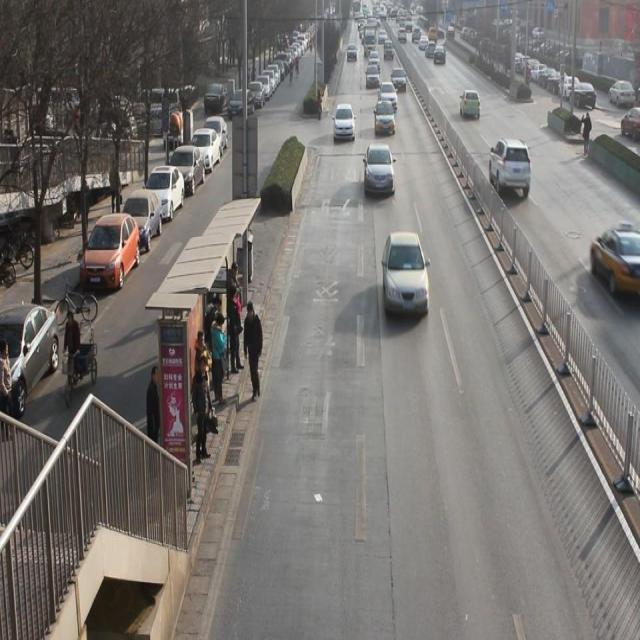car: (379, 230, 432, 320), (590, 221, 640, 298), (487, 135, 534, 202), (364, 144, 397, 197), (331, 101, 358, 144), (372, 101, 398, 135), (459, 87, 482, 120), (378, 82, 399, 110), (388, 66, 408, 94), (364, 64, 381, 90)
